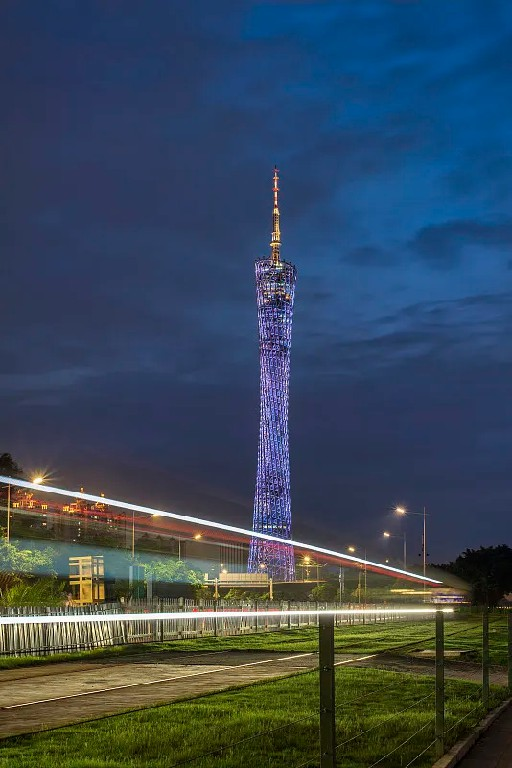Canton: (250, 166, 295, 584)
